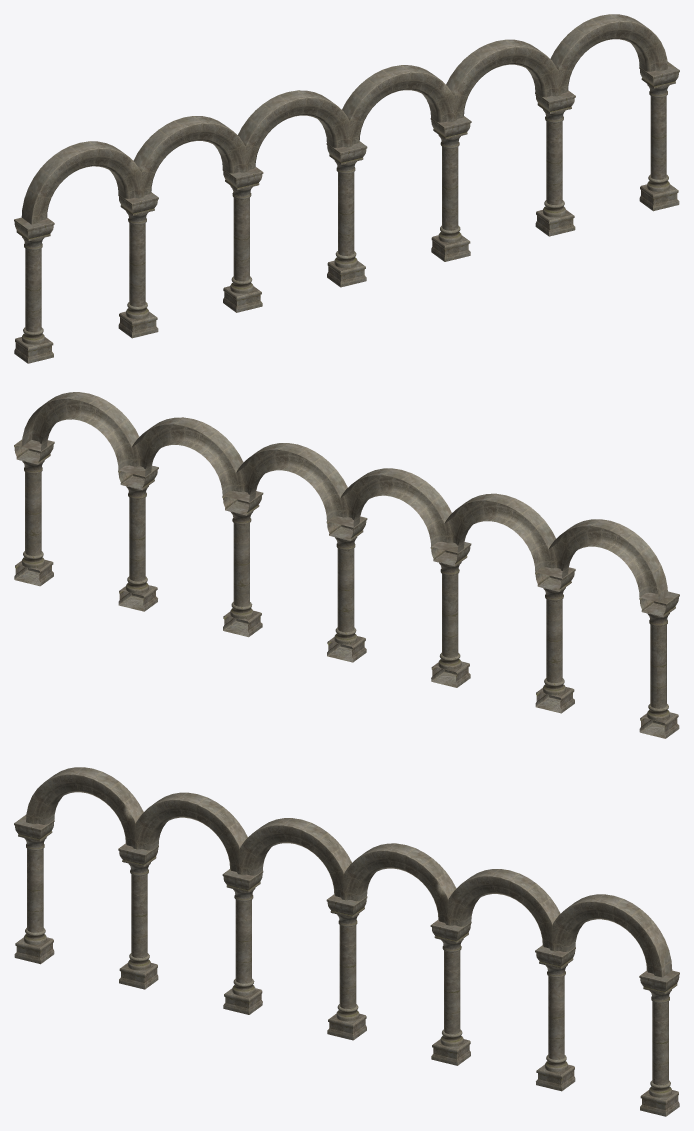
File: SM_Arcade_Decor_02.fbx
3 renders of one model, top to bottom at view 1: azimuth 30°, elevation 25°; view 2: azimuth 150°, elevation 25°; view 3: azimuth 330°, elevation 25°, orthographic.
Visible parts, largest first — view 1: SM_Arcade_Decor_02_LOD0; view 2: SM_Arcade_Decor_02_LOD0; view 3: SM_Arcade_Decor_02_LOD0.
Boxes of the visible parts, x1=… form: SM_Arcade_Decor_02_LOD0: x1=14, y1=14, x2=679, y2=363; SM_Arcade_Decor_02_LOD0: x1=14, y1=392, x2=679, y2=738; SM_Arcade_Decor_02_LOD0: x1=14, y1=767, x2=679, y2=1116.
Size of what is drawn, in the model's own units: 813 by 233 by 29.48.
Materials: 2 (2 with a texture image).
